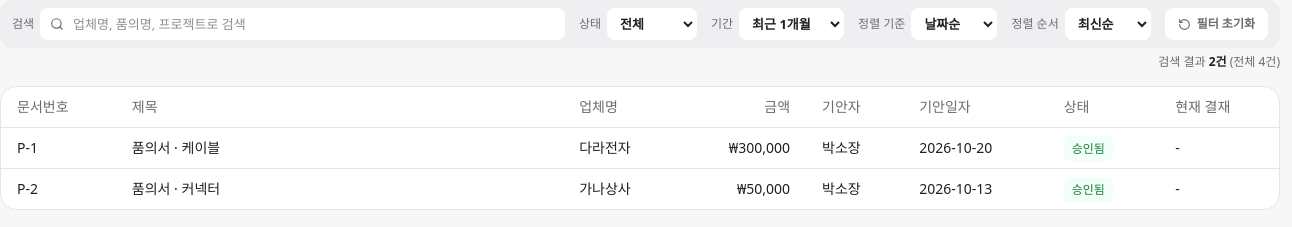
Test case: 품의서 목록 검색·정렬 › 정렬 순서 콤보박스 글자는 정렬 기준에 맞게 바뀐다
Check: the table is shown, box [1, 87, 1279, 209]
Select "업체명순" in the dropdown labelled "정렬 기준" at (954, 24), box [911, 8, 997, 40]
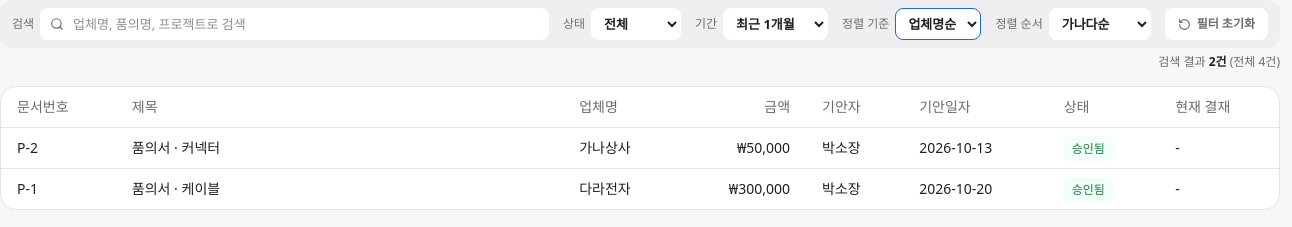
Check: the dropdown labelled "정렬 순서" shows "가나다순", box [1049, 8, 1151, 40]
